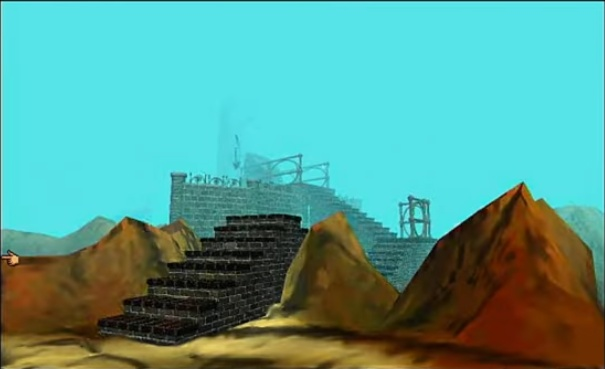Pointer: (1, 246, 22, 268)
